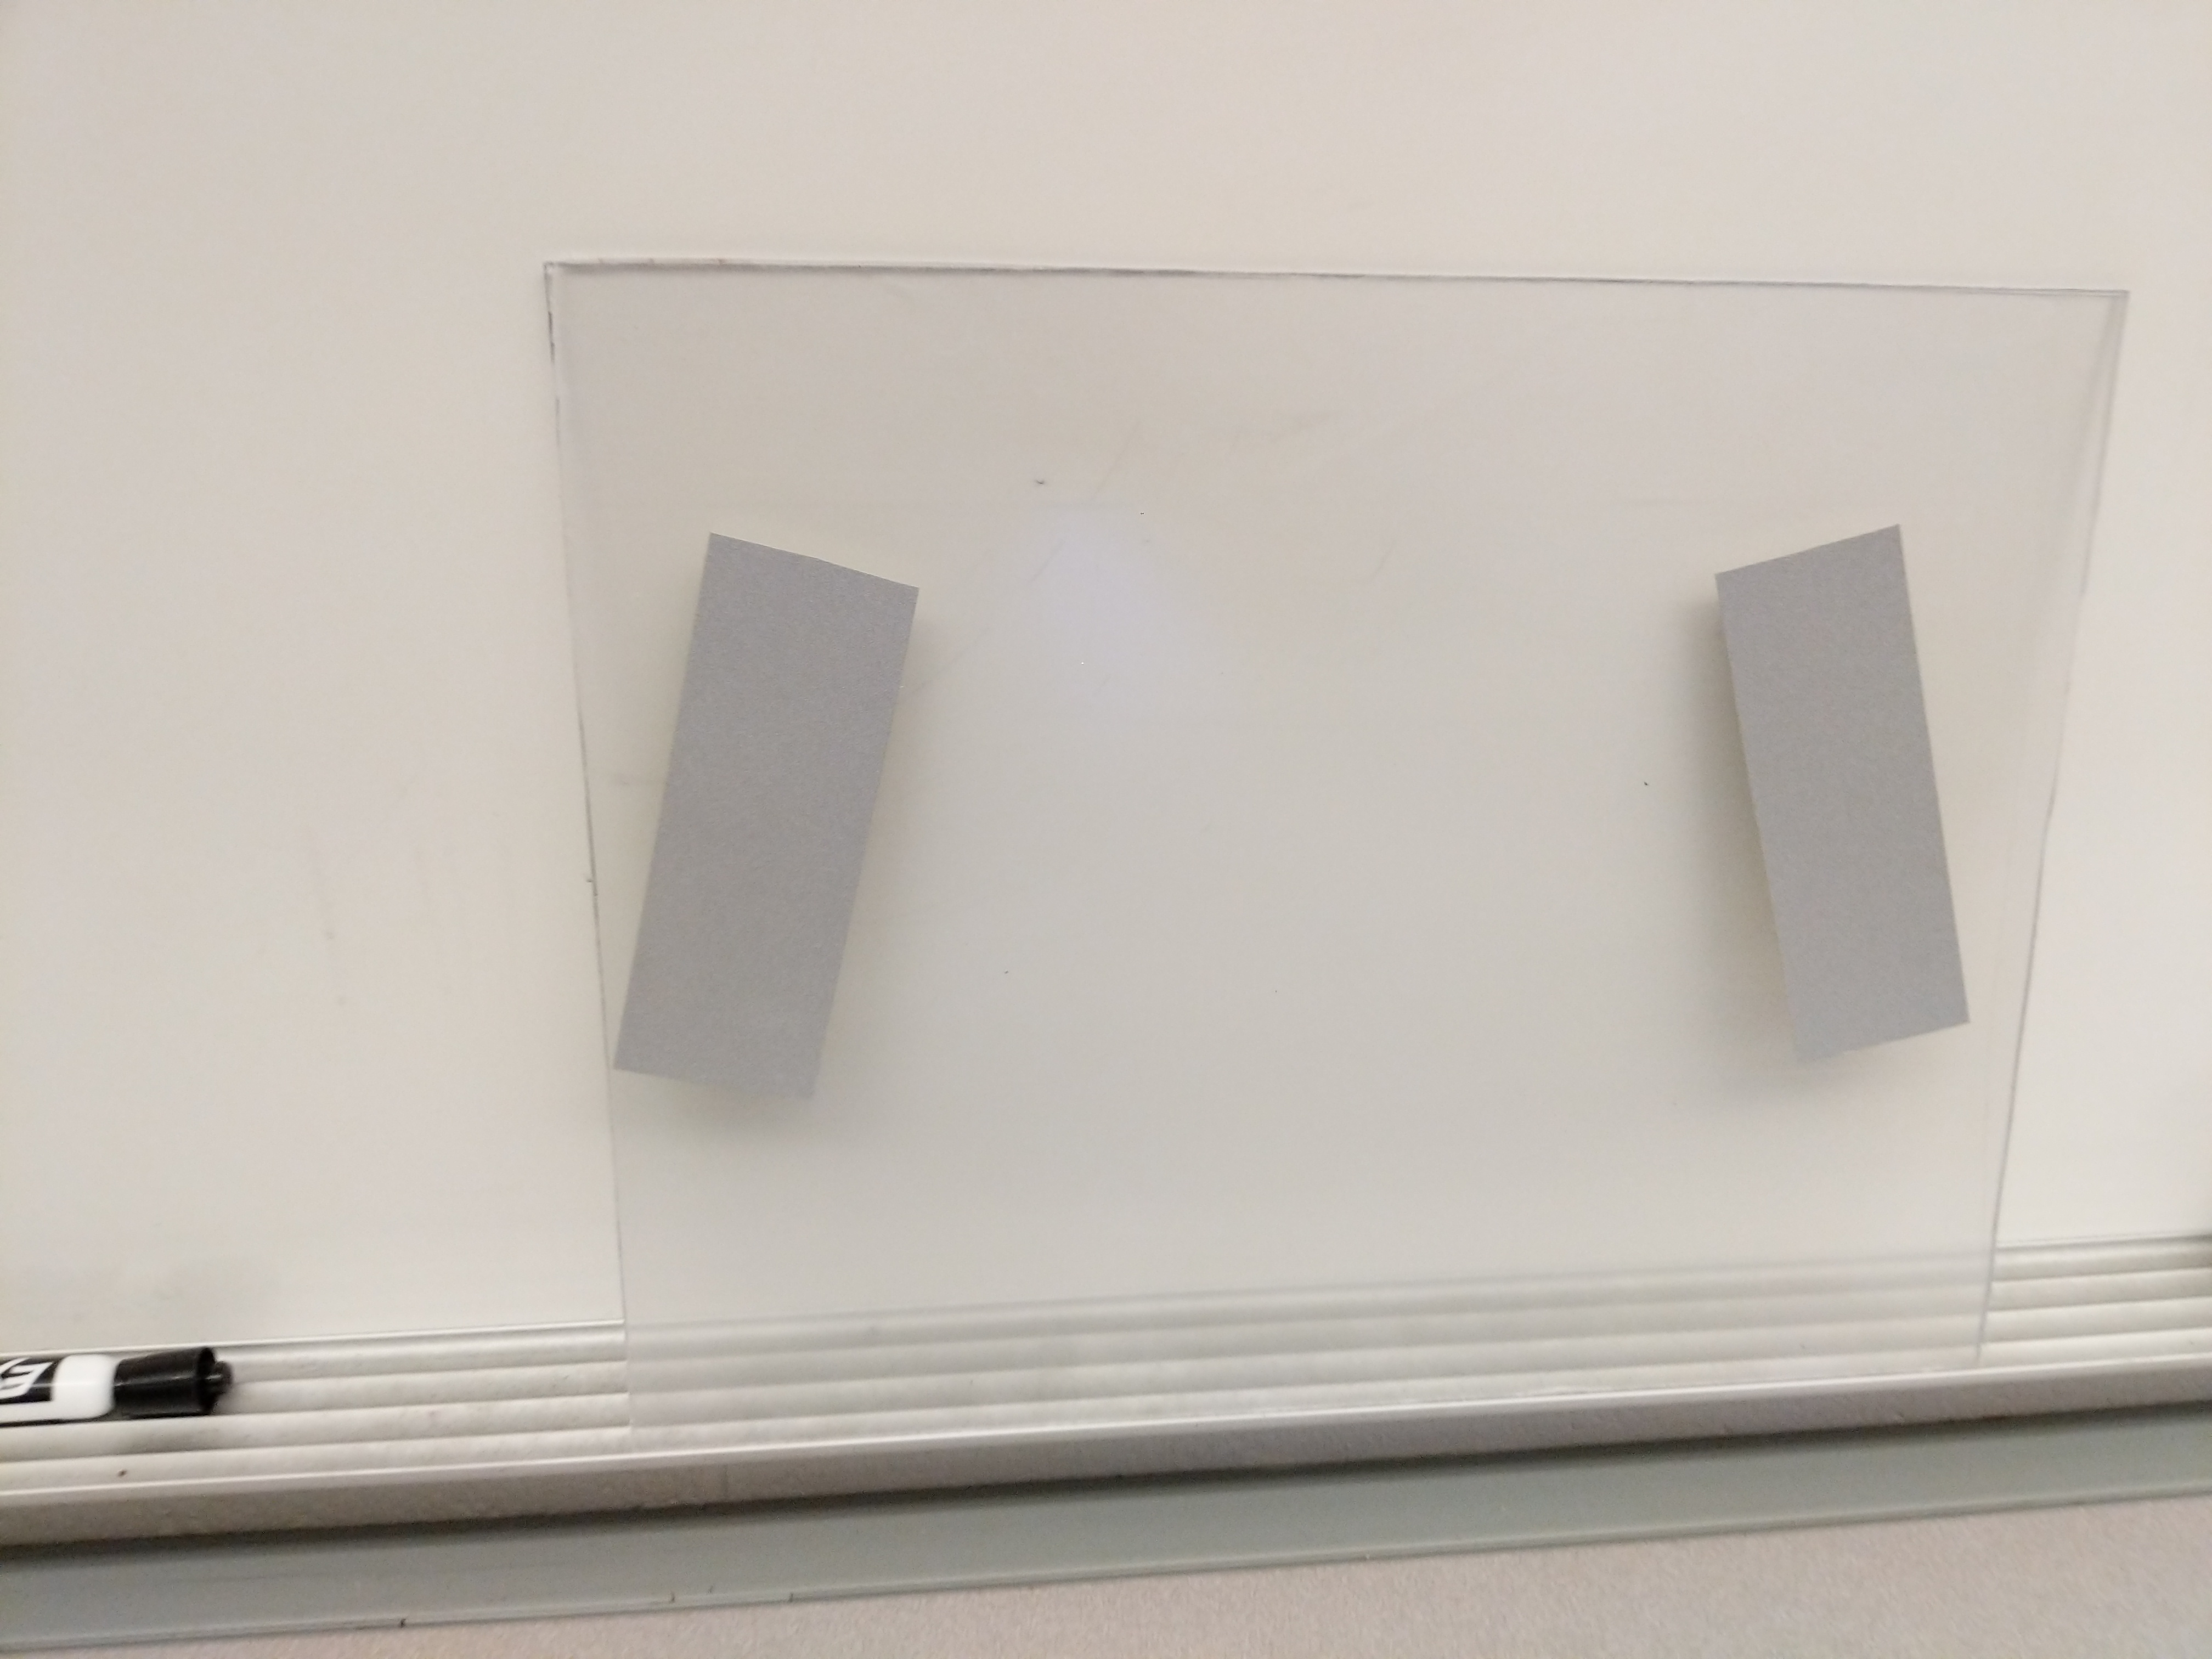vision_target: (596, 498, 2003, 1124)
